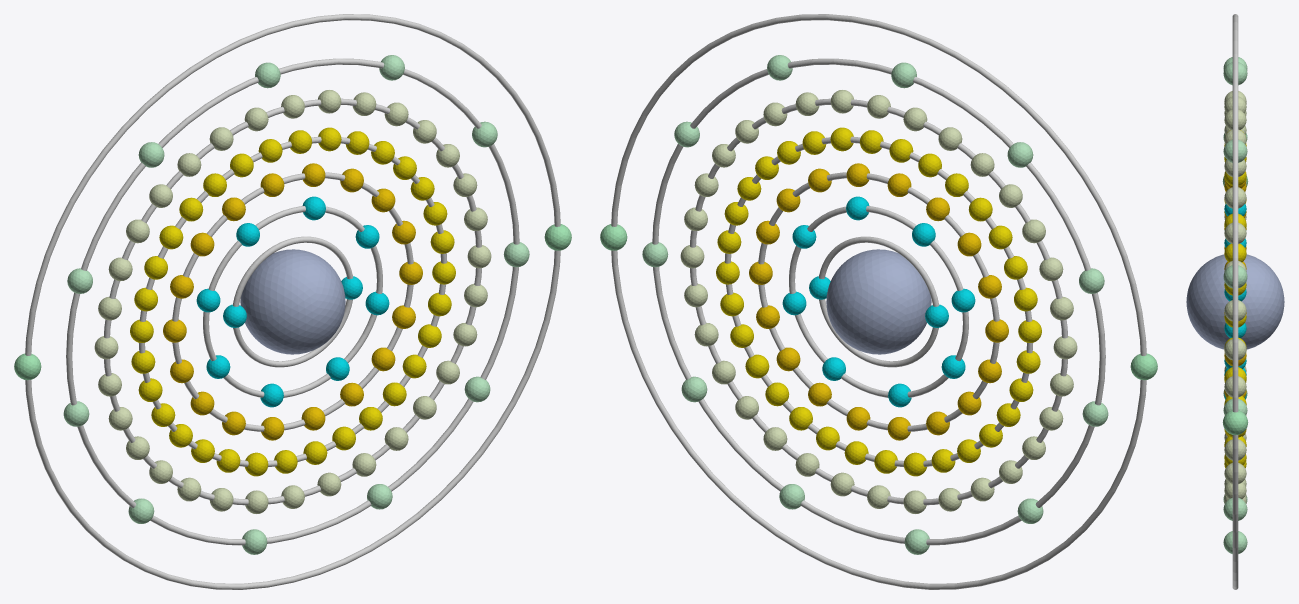
3 renders of one model, left to right at view 1: azimuth 30°, elevation 25°; view 2: azimuth 150°, elevation 25°; view 3: azimuth 270°, elevation 25°, orthographic. The views are drawn at different scales.
Visible parts, largest first — view 1: world; view 2: world; view 3: world.
Boxes of the visible parts, x1,y1,x2,y2 form: world: (14,14,571,589); world: (600,14,1157,589); world: (1186,14,1284,589).
Size of the model in its own units: 2.67 by 2.59 by 0.44.
